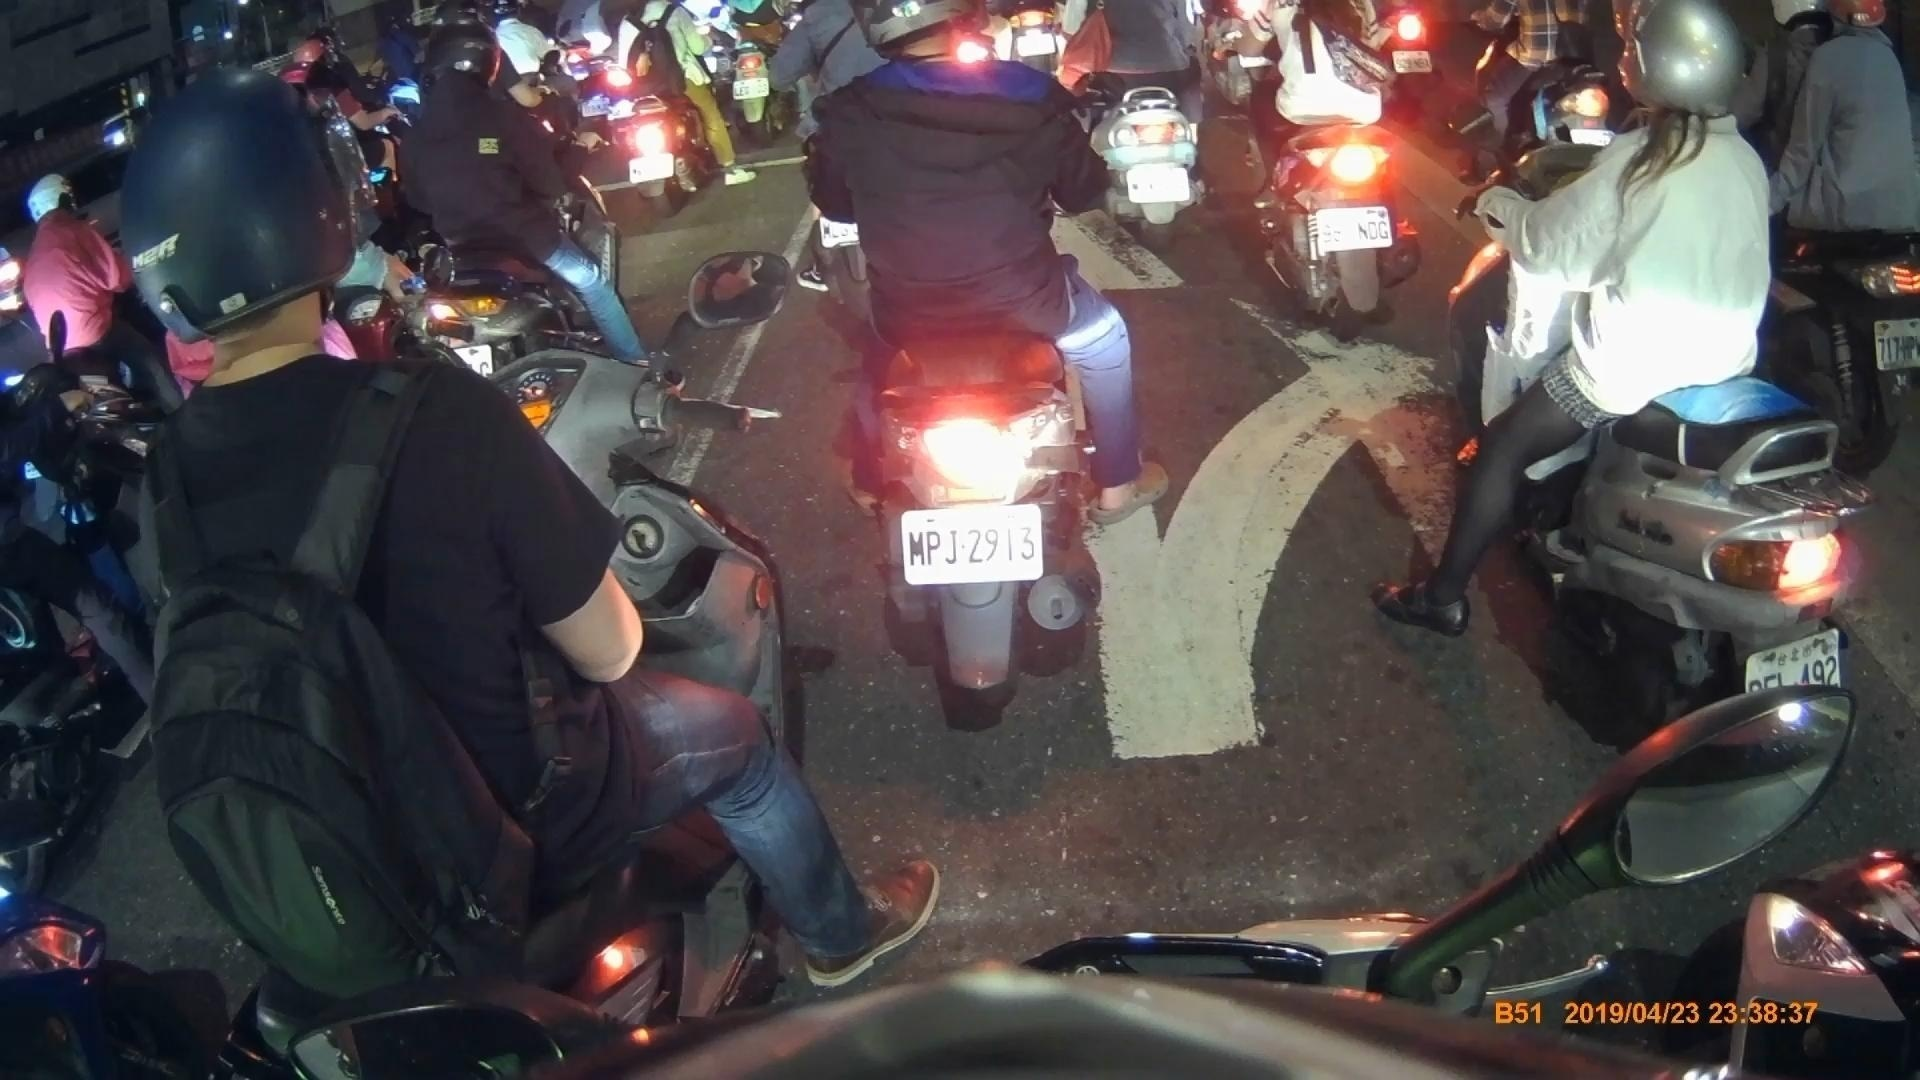License_plate: (897, 508, 1045, 582), (1316, 205, 1394, 251), (1128, 163, 1194, 205)
